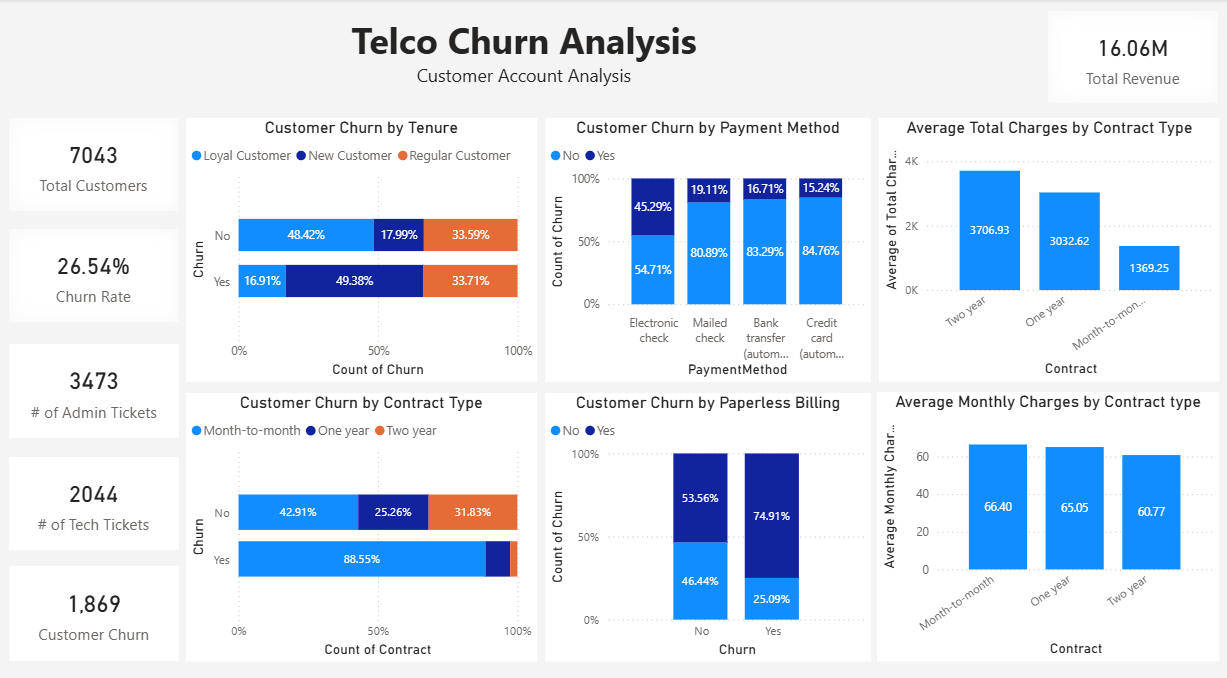

What the dashboard file says about the page in this screenshot:
{"tool":"powerbi","page":{"name":"Customer Account Analysis","canvas":[1280,720],"ordinal":1},"visuals":[{"type":"card","title":"Total Customers","fields":{"Values":["Telco Churn Dataset.Total Customers"]},"box":[9,124.4,177,97.5],"z":0},{"type":"card","title":"Churn Rate","fields":{"Values":["Telco Churn Dataset.Churn Rate"]},"box":[9.2,239.9,177,97.5],"z":1000},{"type":"hundredPercentStackedColumnChart","title":"Customer Churn by Payment Method","fields":{"Category":["Telco Churn Dataset.PaymentMethod"],"Y":["CountNonNull(Telco Churn Dataset.Churn)"],"Series":["Telco Churn Dataset.Churn"]},"box":[568.5,124.2,339.9,274.5],"z":2000},{"type":"hundredPercentStackedBarChart","title":"Customer Churn by Contract Type","fields":{"Y":["CountNonNull(Telco Churn Dataset.Contract)"],"Category":["Telco Churn Dataset.Churn"],"Series":["Telco Churn Dataset.Contract"]},"box":[194,410.2,365.6,279.7],"z":3000},{"type":"textbox","box":[8.9,12.7,1073.4,96.3],"z":4000},{"type":"card","fields":{"Values":["Telco Churn Dataset.# of Tech Tickets"]},"box":[9.2,477.2,177,97.5],"z":5000},{"type":"card","fields":{"Values":["Sum(Telco Churn Dataset.Churn Binary)"]},"box":[9,591.4,177,98.8],"z":6000},{"type":"hundredPercentStackedBarChart","title":"Customer Churn by Tenure","fields":{"Category":["Telco Churn Dataset.Churn"],"Y":["CountNonNull(Telco Churn Dataset.Churn)"],"Series":["Telco Churn Dataset.Customer Category"]},"box":[194,124.2,365.6,274.5],"z":7000},{"type":"hundredPercentStackedColumnChart","title":"Customer Churn by Paperless Billing","fields":{"Category":["Telco Churn Dataset.Churn"],"Y":["CountNonNull(Telco Churn Dataset.Churn)"],"Series":["Telco Churn Dataset.PaperlessBilling"]},"box":[568.5,410.2,339.9,279.7],"z":8000},{"type":"columnChart","title":"Average Total Charges by Contract  Type","fields":{"Category":["Telco Churn Dataset.Contract"],"Y":["Avg(Telco Churn Dataset.Total Charges)"]},"box":[915.9,124.4,355.3,274.5],"z":9000},{"type":"columnChart","title":"Average Monthly Charges by Contract type","fields":{"Y":["Telco Churn Dataset.Average Monthly Charges"],"Category":["Telco Churn Dataset.Contract"]},"box":[914.7,409.2,356.6,280.9],"z":10000},{"type":"card","title":"Total Revenue","fields":{"Values":["Telco Churn Dataset.Total Revenue"]},"box":[1092.4,12.7,177.4,96.3],"z":11000},{"type":"card","fields":{"Values":["Telco Churn Dataset.# of Admin Tickets"]},"box":[8.9,359.9,177.4,97.6],"z":12000}]}

Visuals, with their boxes in screenshot pixels (x1, y1, x2, y2), scaled from the page's 1280x720 canvas onto the 1227x678 screenshot:
"Total Customers" card: [left=9, top=117, right=178, bottom=209]
"Churn Rate" card: [left=9, top=226, right=178, bottom=318]
"Customer Churn by Payment Method" hundredPercentStackedColumnChart: [left=545, top=117, right=871, bottom=375]
"Customer Churn by Contract Type" hundredPercentStackedBarChart: [left=186, top=386, right=536, bottom=650]
textbox: [left=9, top=12, right=1037, bottom=103]
card - Telco Churn Dataset.# of Tech Tickets: [left=9, top=449, right=178, bottom=541]
card - Sum(Telco Churn Dataset.Churn Binary): [left=9, top=557, right=178, bottom=650]
"Customer Churn by Tenure" hundredPercentStackedBarChart: [left=186, top=117, right=536, bottom=375]
"Customer Churn by Paperless Billing" hundredPercentStackedColumnChart: [left=545, top=386, right=871, bottom=650]
"Average Total Charges by Contract  Type" columnChart: [left=878, top=117, right=1219, bottom=376]
"Average Monthly Charges by Contract type" columnChart: [left=877, top=385, right=1219, bottom=650]
"Total Revenue" card: [left=1047, top=12, right=1217, bottom=103]
card - Telco Churn Dataset.# of Admin Tickets: [left=9, top=339, right=179, bottom=431]
